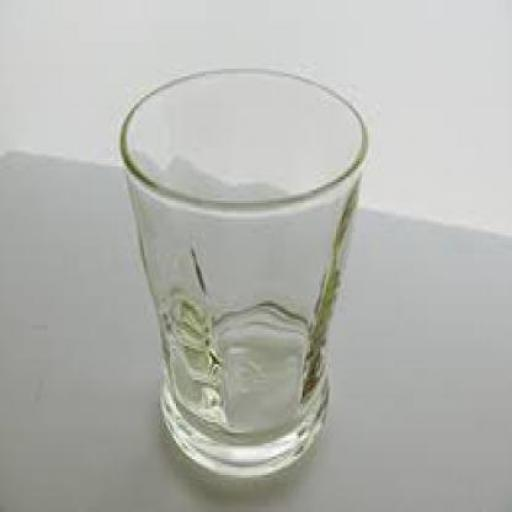glass: (118, 67, 364, 475)
